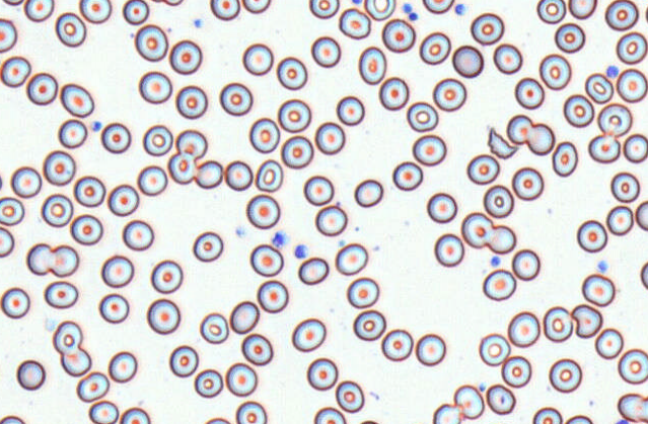PLT: (272, 229, 292, 250), (292, 244, 312, 262), (604, 63, 621, 79), (453, 2, 469, 17), (596, 258, 611, 273), (88, 119, 104, 132), (490, 254, 502, 268), (408, 11, 420, 23), (401, 2, 414, 12), (348, 0, 366, 5)
RBC: (245, 193, 280, 229), (134, 24, 168, 61), (597, 102, 632, 137), (291, 317, 326, 352), (146, 298, 180, 334), (548, 358, 582, 393), (507, 311, 540, 347), (42, 149, 75, 185), (461, 211, 493, 248), (539, 53, 571, 90), (100, 254, 134, 288), (381, 18, 415, 52), (138, 70, 172, 104), (60, 83, 94, 117), (277, 98, 311, 132), (432, 77, 466, 111), (169, 39, 202, 74), (542, 305, 573, 342), (482, 268, 516, 301), (581, 273, 615, 306), (511, 166, 544, 200), (150, 259, 183, 293), (470, 12, 504, 45), (249, 243, 283, 276), (219, 82, 252, 116), (225, 362, 257, 397), (175, 84, 207, 119), (249, 117, 280, 153), (358, 45, 386, 84), (334, 242, 367, 275), (380, 328, 413, 361), (41, 193, 73, 227), (451, 44, 483, 78), (478, 332, 510, 366), (352, 309, 386, 341), (256, 279, 288, 313), (412, 134, 446, 166), (281, 135, 313, 169), (419, 31, 451, 65), (453, 384, 484, 419), (616, 68, 647, 103), (55, 12, 86, 47), (617, 348, 647, 384), (338, 7, 371, 39), (70, 213, 103, 245), (314, 204, 347, 236), (346, 276, 379, 308), (10, 165, 42, 198), (306, 357, 338, 390), (26, 72, 58, 105), (107, 183, 139, 216), (615, 31, 647, 64), (563, 93, 594, 127), (483, 184, 514, 218), (378, 76, 409, 110), (276, 56, 307, 90), (122, 219, 154, 251), (241, 333, 273, 365), (73, 175, 105, 207), (76, 371, 109, 402), (466, 153, 499, 184), (314, 121, 345, 154), (415, 333, 446, 366), (576, 219, 607, 252), (242, 42, 273, 75), (52, 320, 82, 354), (229, 300, 259, 334), (434, 233, 464, 267), (604, 0, 638, 30), (551, 140, 578, 177), (0, 55, 31, 87), (310, 35, 341, 67), (406, 101, 438, 132), (142, 124, 173, 156), (525, 122, 555, 155), (514, 76, 544, 109), (254, 158, 283, 192), (43, 280, 78, 308), (426, 192, 457, 223), (554, 22, 585, 53), (303, 174, 334, 205), (192, 231, 223, 262), (100, 122, 131, 153), (588, 133, 620, 163), (0, 286, 30, 318), (501, 355, 531, 387), (175, 129, 207, 159), (610, 171, 640, 203), (485, 383, 515, 415), (137, 164, 167, 196), (199, 312, 229, 344), (49, 244, 78, 277), (169, 344, 198, 377), (108, 350, 137, 383), (335, 380, 364, 413), (617, 392, 647, 423), (98, 293, 129, 323), (392, 161, 423, 191), (492, 43, 522, 74), (167, 152, 196, 184), (511, 248, 540, 280), (594, 327, 623, 359), (297, 256, 329, 285), (486, 224, 516, 254), (57, 118, 87, 148), (193, 368, 223, 398), (60, 347, 91, 376), (16, 359, 45, 390), (584, 72, 613, 103), (224, 160, 253, 191), (194, 159, 223, 189), (26, 242, 52, 275), (354, 178, 383, 207), (336, 95, 364, 125), (506, 114, 533, 144), (606, 205, 633, 235), (235, 400, 267, 423), (79, 0, 111, 23), (623, 133, 647, 163), (536, 0, 566, 24), (88, 400, 119, 423), (0, 196, 24, 225), (23, 0, 54, 22), (122, 0, 149, 25), (363, 0, 395, 20), (432, 403, 462, 423), (210, 0, 240, 20), (0, 17, 17, 52), (308, 0, 339, 19), (313, 406, 346, 423), (568, 0, 597, 19), (119, 406, 150, 423), (532, 406, 562, 423), (422, 0, 454, 14), (0, 226, 14, 257), (242, 0, 271, 13), (635, 200, 647, 231), (564, 414, 592, 423), (0, 414, 25, 423), (640, 261, 647, 289), (204, 416, 230, 423), (2, 0, 24, 6), (162, 0, 183, 6), (358, 419, 378, 424), (614, 418, 629, 424), (0, 167, 3, 191), (645, 3, 648, 23)
Schistocyte: (571, 304, 603, 340), (487, 125, 519, 160)
